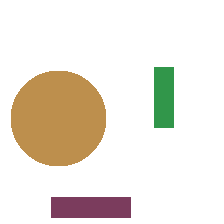circle: (11, 71, 105, 165)
rectangle: (51, 197, 130, 217), (154, 67, 173, 127)
